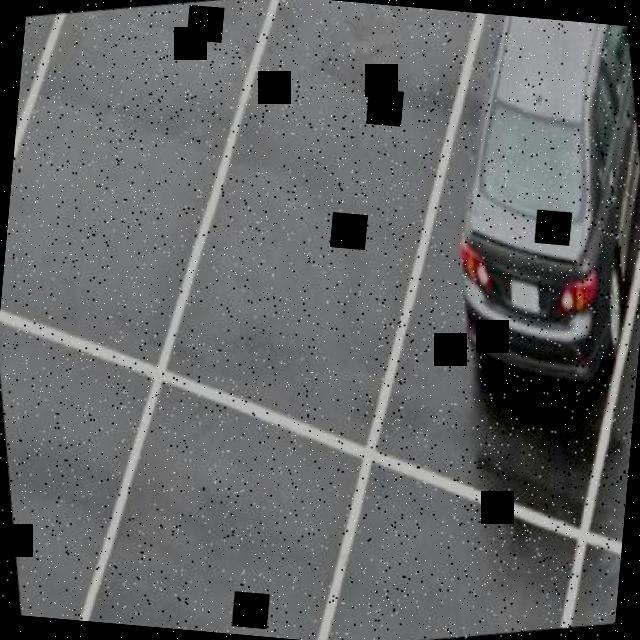space-empty: (222, 18, 449, 348), (13, 32, 232, 363), (371, 483, 553, 640), (143, 499, 310, 640), (0, 388, 90, 611)
space-occupied: (428, 11, 640, 376)
